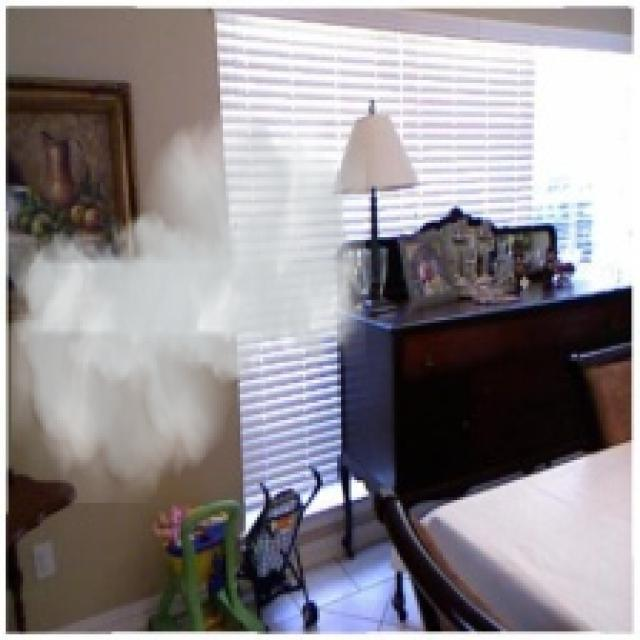Smoke: (11, 91, 366, 503)
